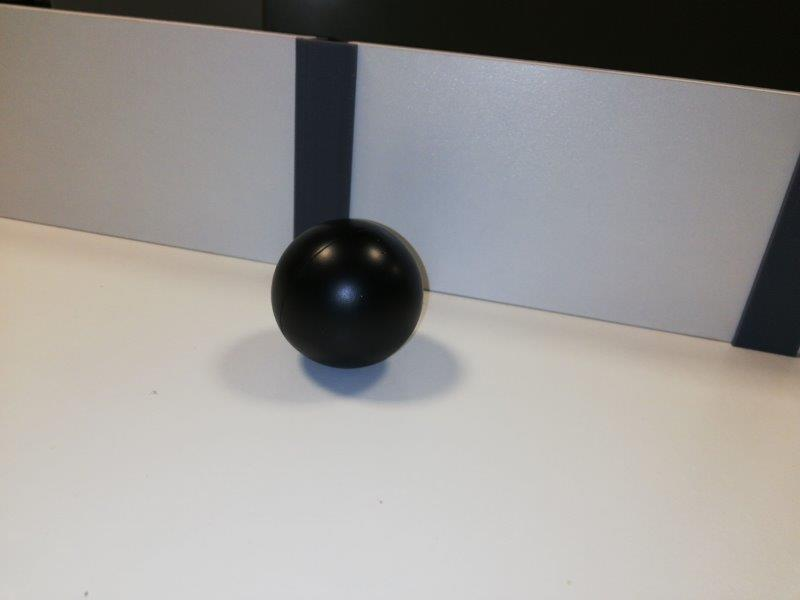nera: (270, 218, 424, 368)
